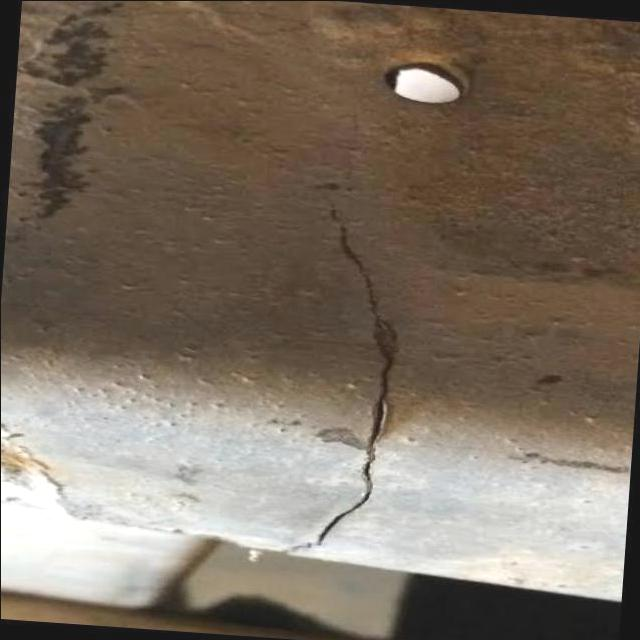defect: (278, 182, 399, 558)
